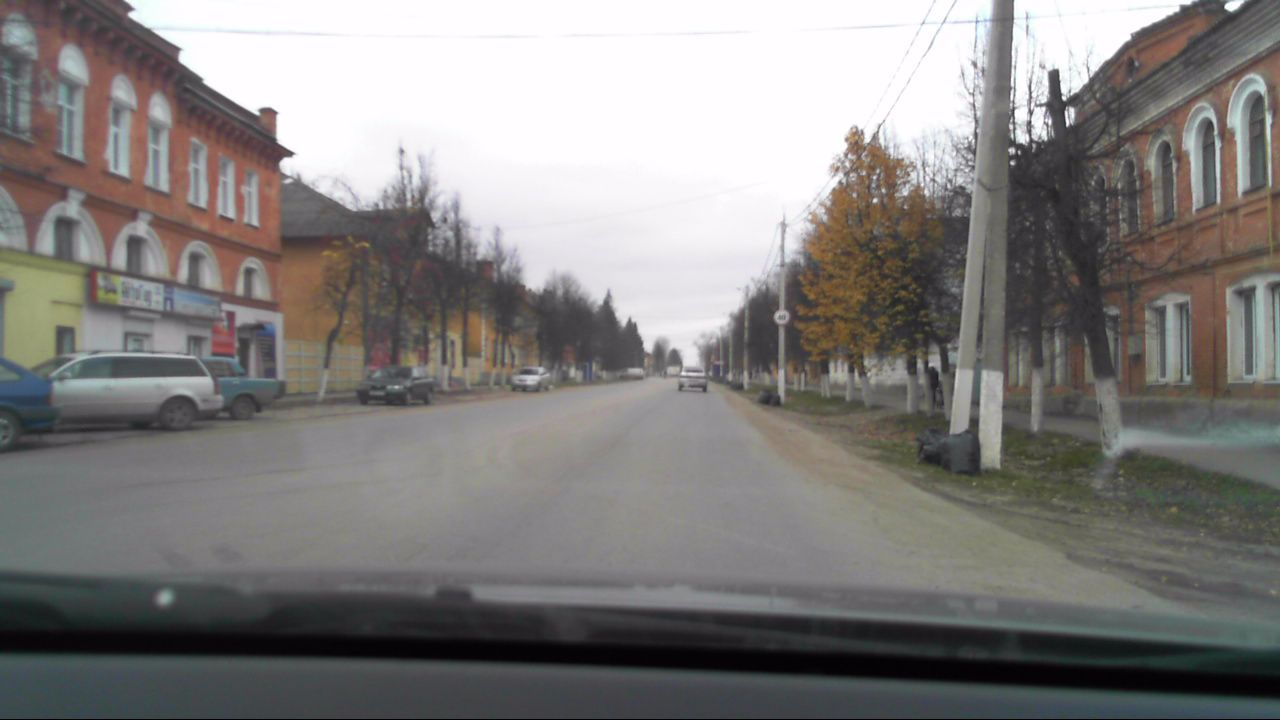speed_warning_40: (771, 305, 793, 327)
